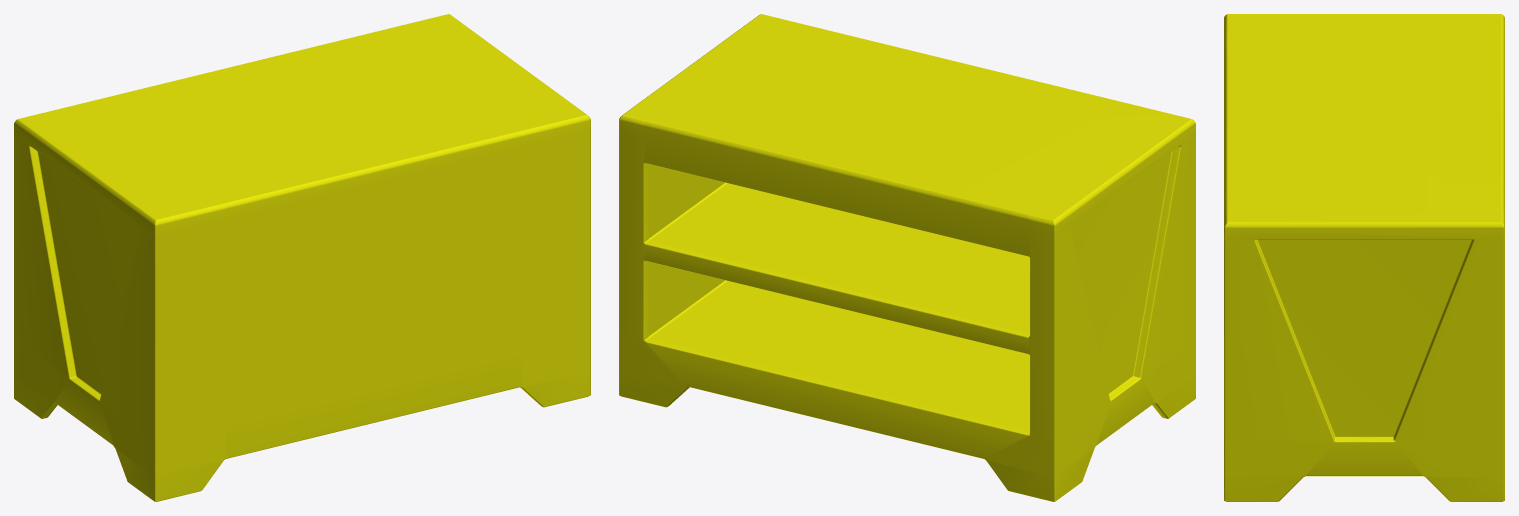
Rendered from Cell1Bench.fbx.
3 views of the same model, side by side, from view 1: azimuth 30°, elevation 25°; view 2: azimuth 150°, elevation 25°; view 3: azimuth 270°, elevation 25° (orthographic).
Parts seen in each view (by area): view 1: Cell1Bench; view 2: Cell1Bench; view 3: Cell1Bench.
Part boxes in pixels (box(x1,y1,x2,y2)): Cell1Bench: box(14, 14, 590, 501); Cell1Bench: box(619, 14, 1195, 501); Cell1Bench: box(1224, 14, 1504, 501).
Size of the model in its own units: 152 by 93.24 by 85.06.
